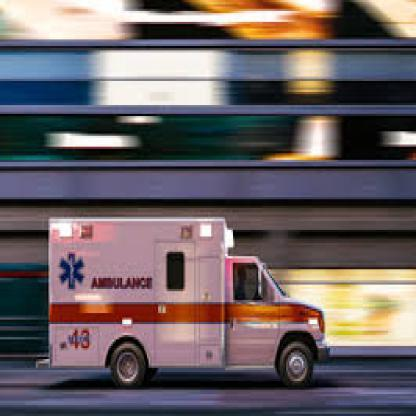Ambulance - v1 Ambulance last generate: (49, 213, 329, 384)
